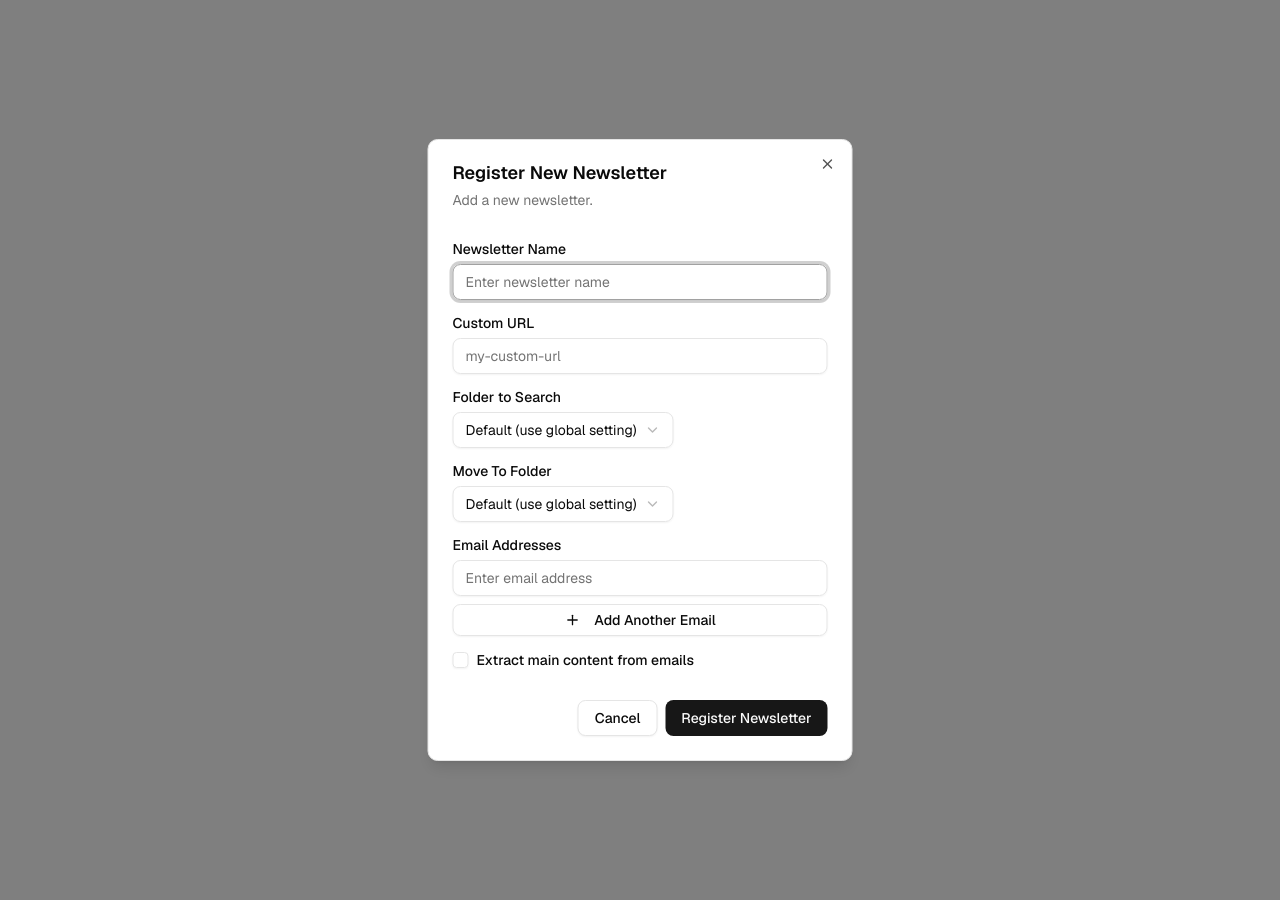
it: NewsletterDialog › Add Mode › allows adding and removing email fields
Expected: the number of fields with placeholder "Enter email address" is 1, [452,560,828,596]
Click the button "Add Another Email": (640, 620) [452,604,828,636]
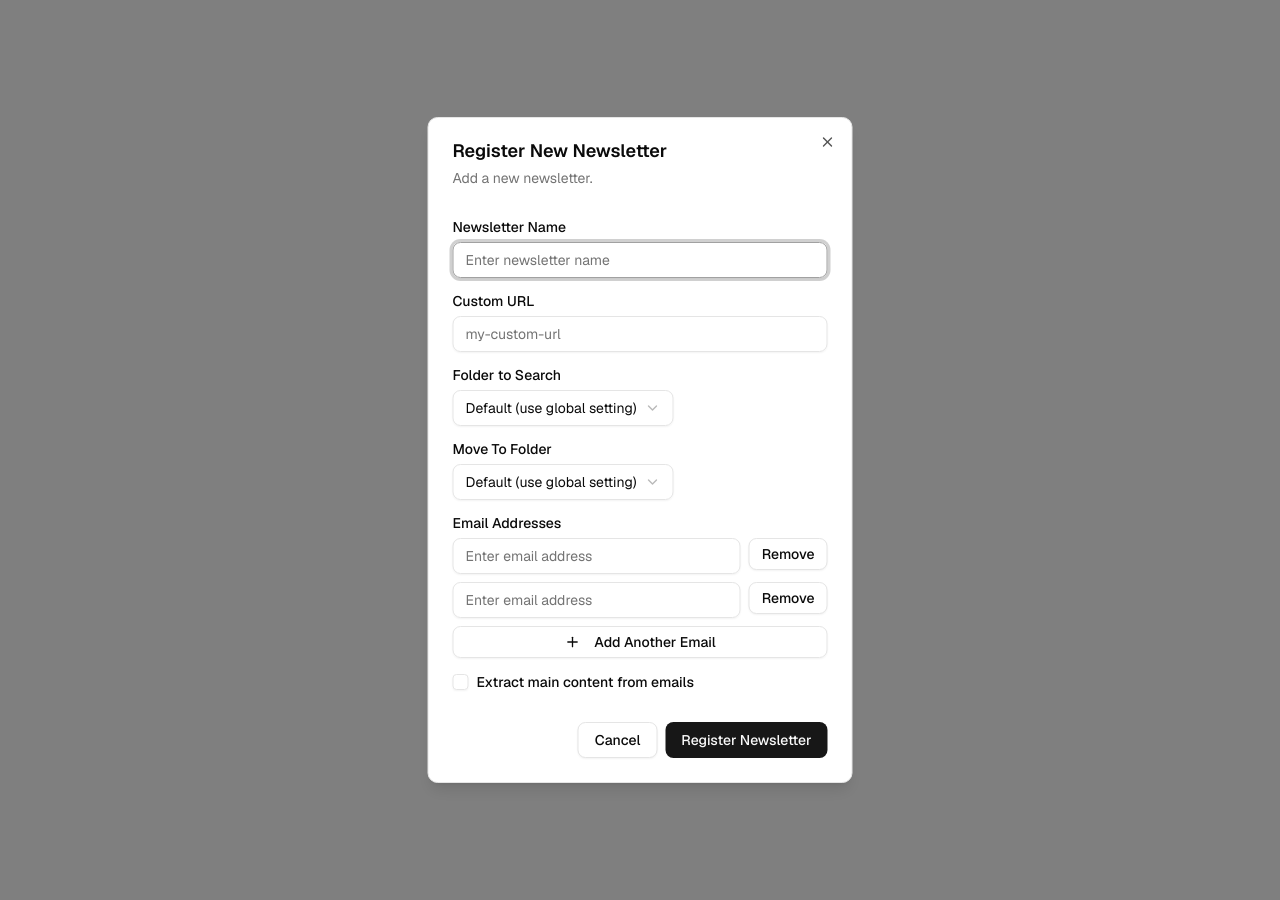
Expected: the number of fields with placeholder "Enter email address" is 2, [452,538,741,574]; [452,582,741,618]
Click the 1st button "Remove": (788, 554) [749,538,828,570]
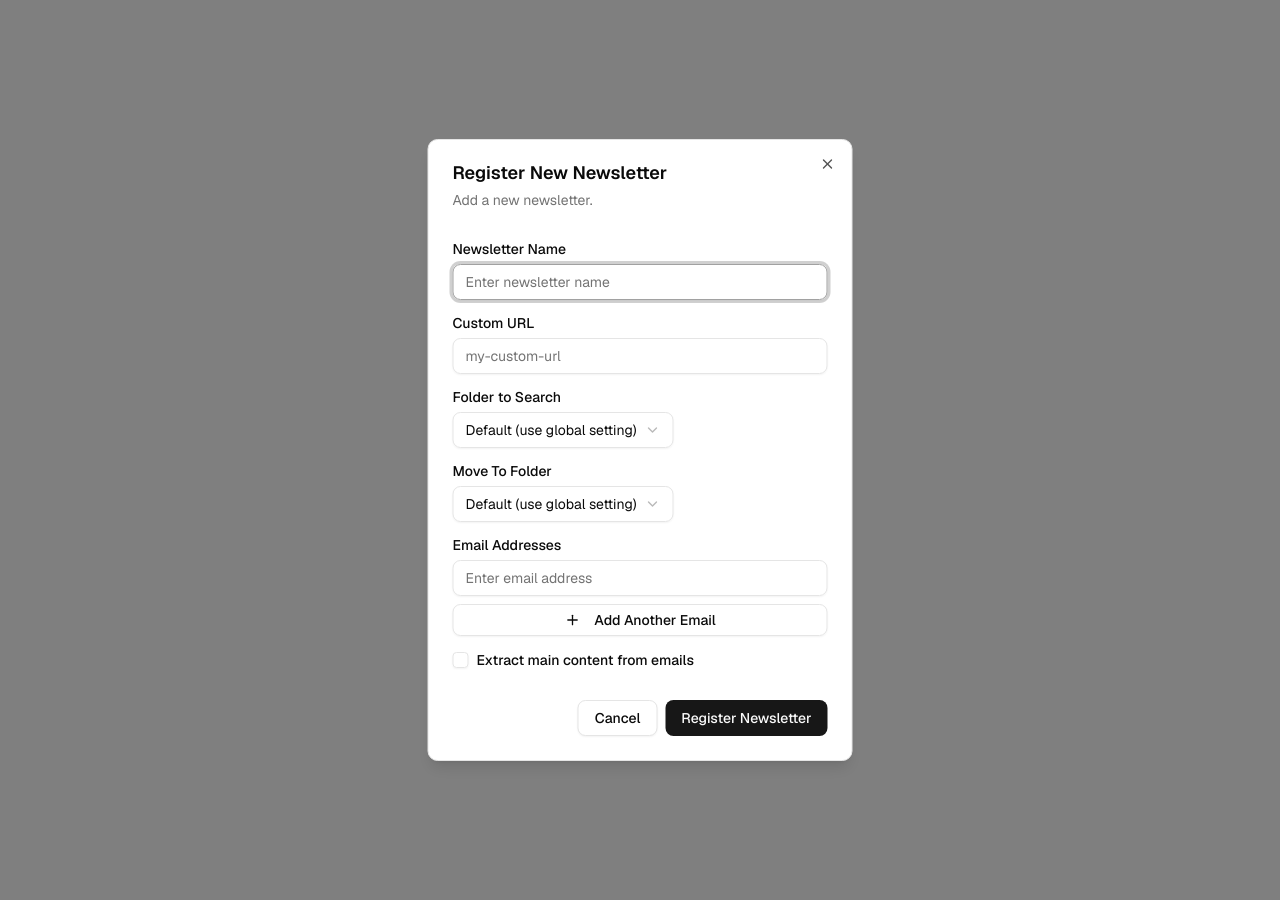
Expected: the number of fields with placeholder "Enter email address" is 1, [452,560,828,596]
